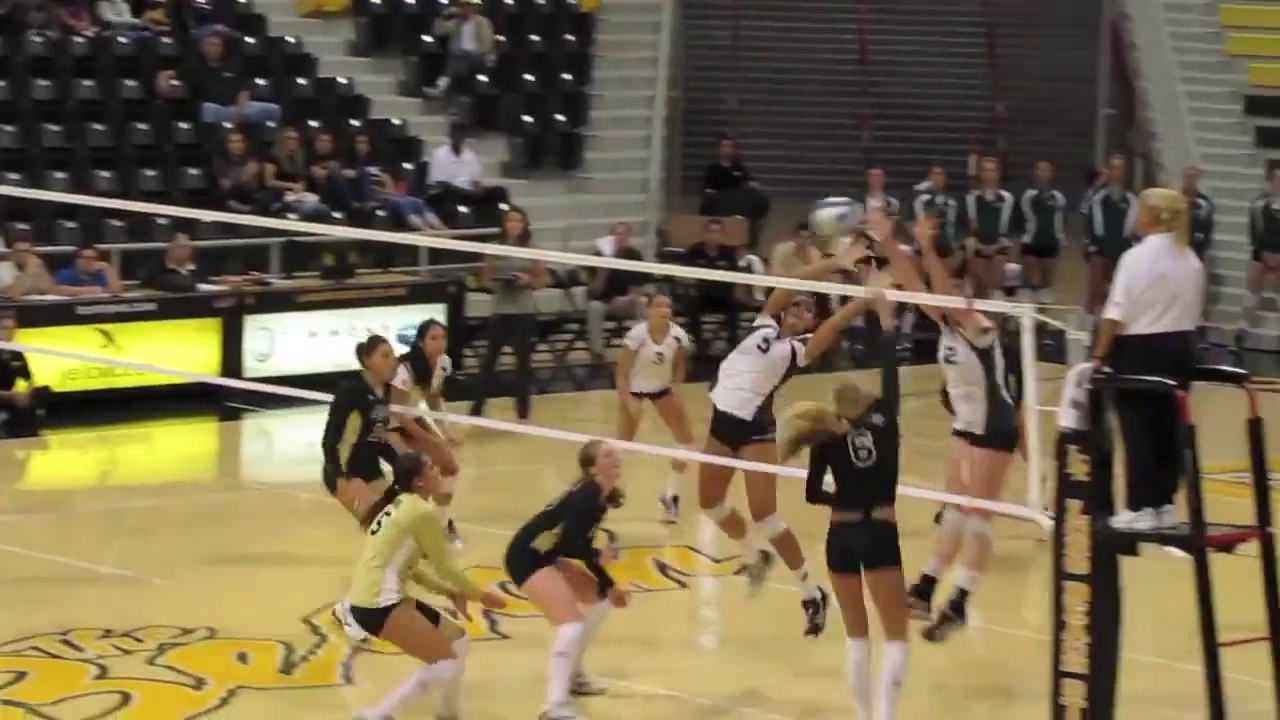person: (699, 249, 886, 637), (868, 210, 1018, 645), (778, 292, 909, 720), (351, 453, 506, 719), (1089, 189, 1206, 530), (503, 438, 631, 718), (615, 293, 693, 521), (324, 335, 396, 522), (390, 320, 462, 507)
